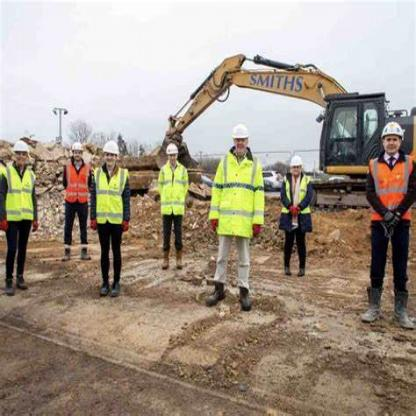person: (358, 106, 415, 339), (205, 116, 258, 296), (82, 144, 126, 296), (0, 134, 31, 290), (60, 143, 91, 287), (280, 154, 315, 266), (161, 135, 184, 268)
